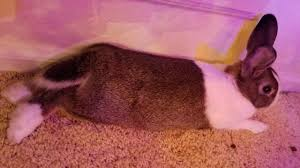bunny: (3, 12, 290, 147)
